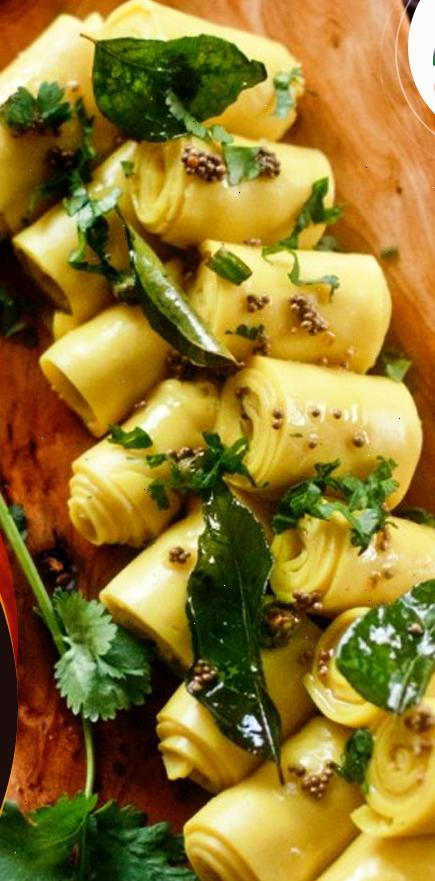khandvi: (32, 42, 435, 875)
